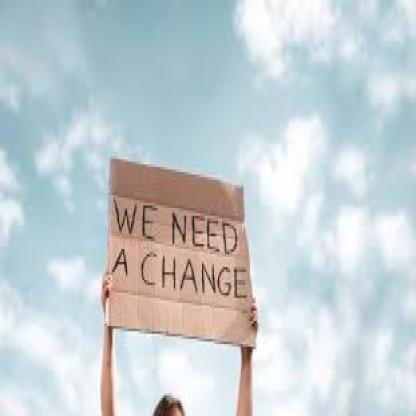BANNER: (103, 162, 255, 316)
